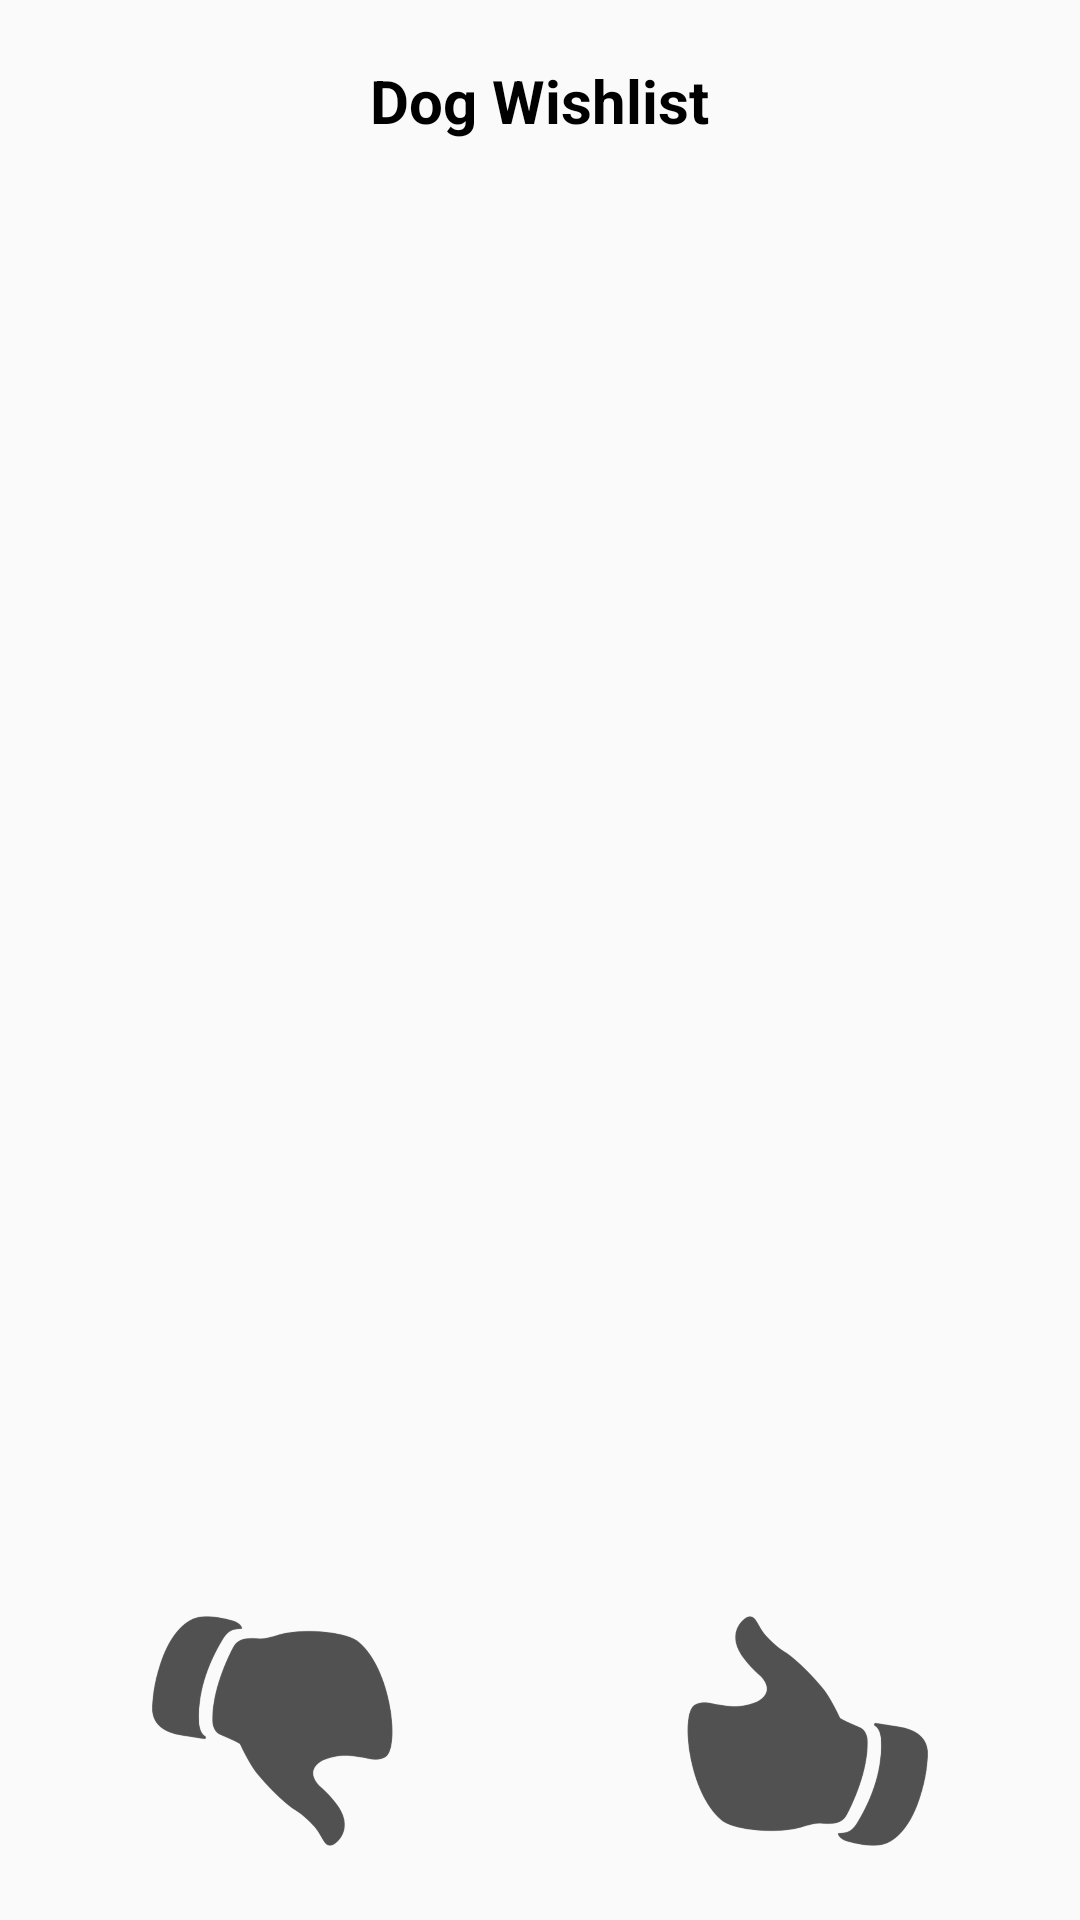

Where to tap for icons on this 1080px x 1920px app screen, as (x=x, y=y):
dislike: (x=272, y=1731)
like: (x=807, y=1731)
